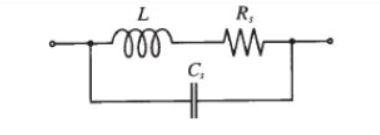inductor: (101, 24, 180, 59)
